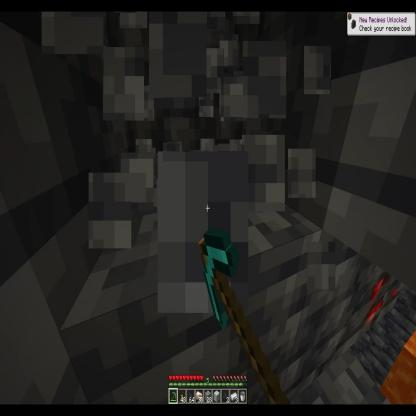redstone ore: (358, 263, 404, 342)
